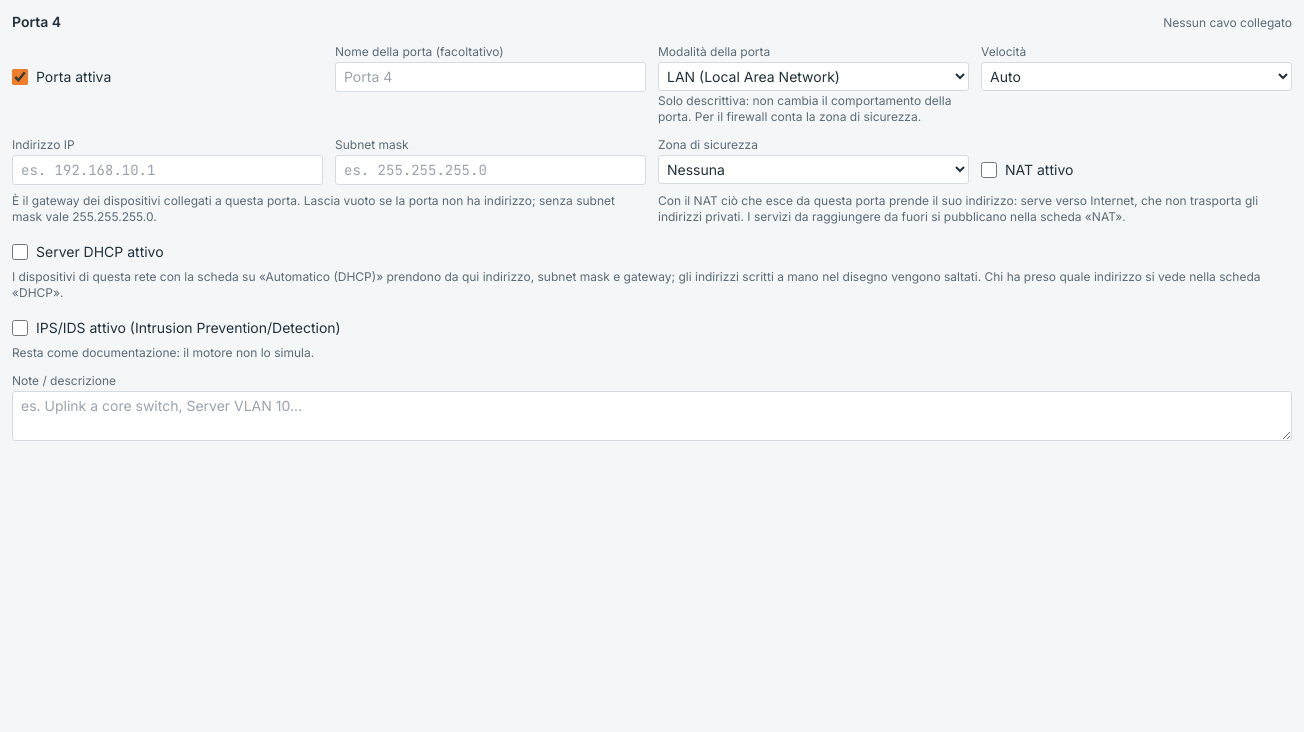
Test case: PortEditor — the DHCP server of a port › on a port with no address starts empty, and says that an empty range is not kept
The width and height of the screenshot is (1304, 732).
What coordinates should you click on to do the following:
click the checkbox labelled "Server DHCP attivo"
I would click on:
 (20, 252)
Its box is x1=12 y1=244 x2=28 y2=260.
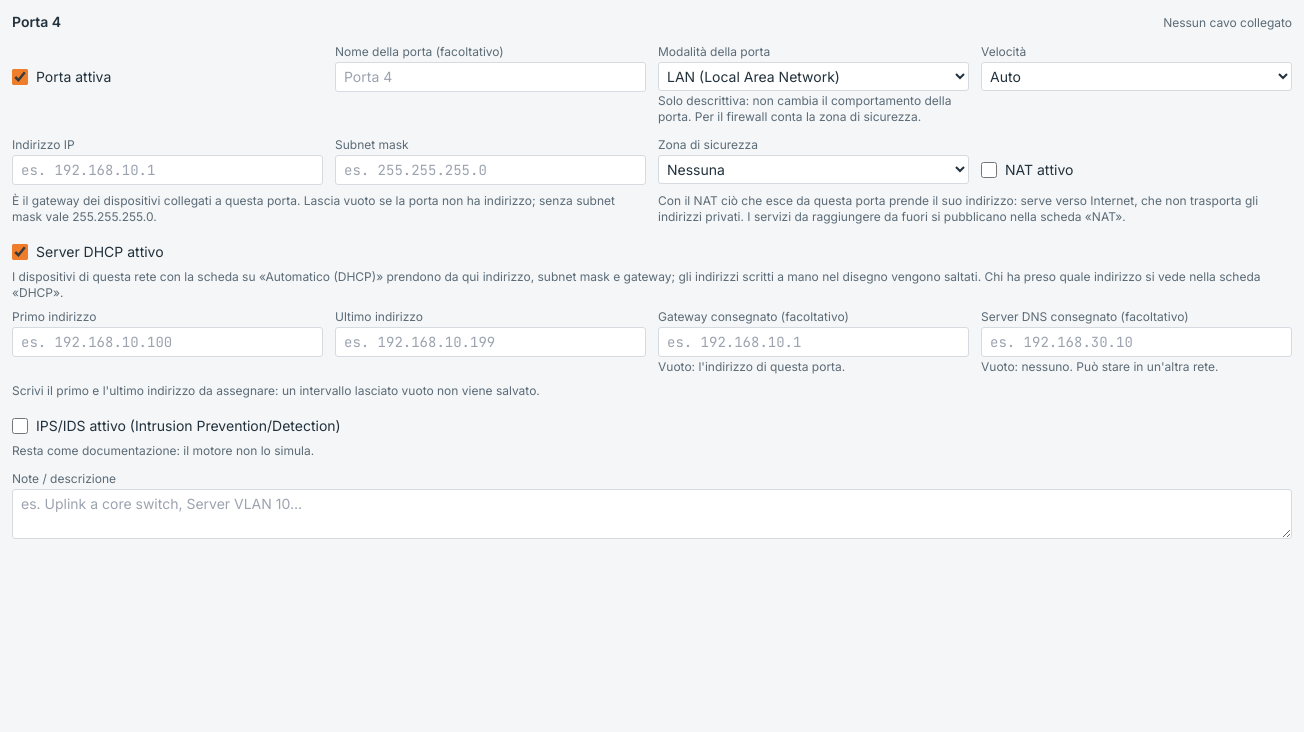
Result: the field labelled "Primo indirizzo" is empty at x1=12 y1=327 x2=323 y2=357
Result: the text "un intervallo lasciato vuoto non viene salvato" is shown at x1=12 y1=383 x2=540 y2=398
